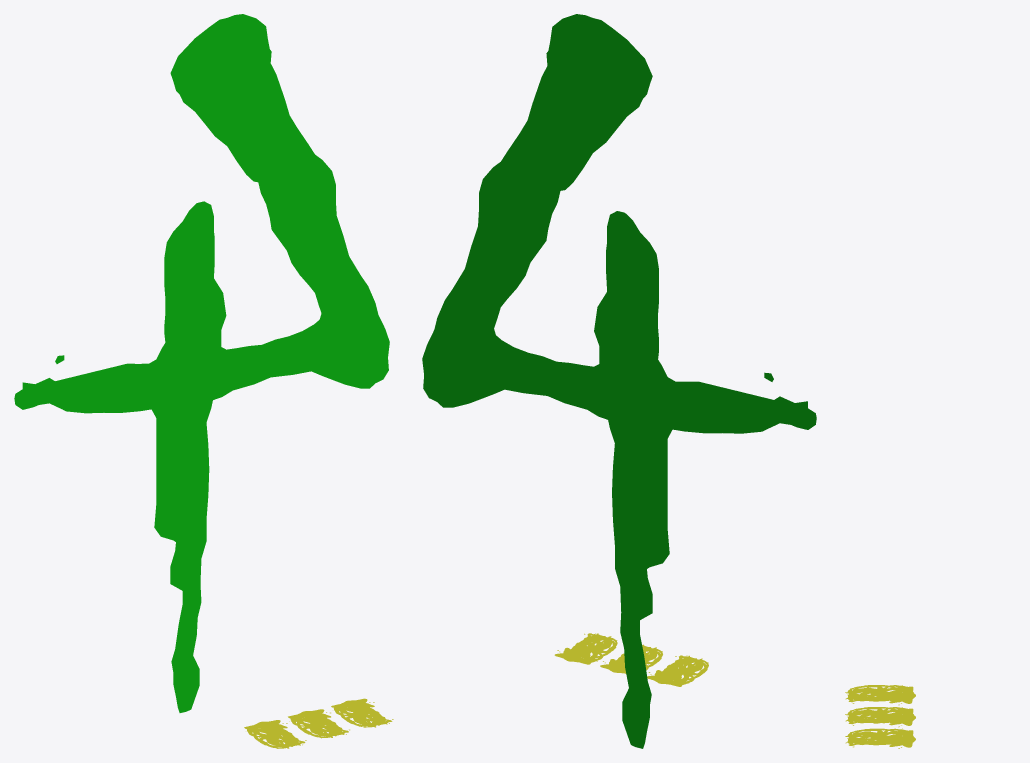
File: hsfour.obj
3 renders of one model, left to right at view 1: azimuth 30°, elevation 25°; view 2: azimuth 150°, elevation 25°; view 3: azimuth 270°, elevation 25°, orthographic. The views are drawn at different scales.
Visible parts, largest first — view 1: hsfour.008; view 2: hsfour.008; view 3: eight.002.
Boxes of the visible parts, <box> form: hsfour.008: <box>14,14,389,712</box>; hsfour.008: <box>422,14,816,748</box>; eight.002: <box>852,728,913,747</box>.
Bounding box in the file's own units: 0.3441 × 0.5997 × 0.1315.
